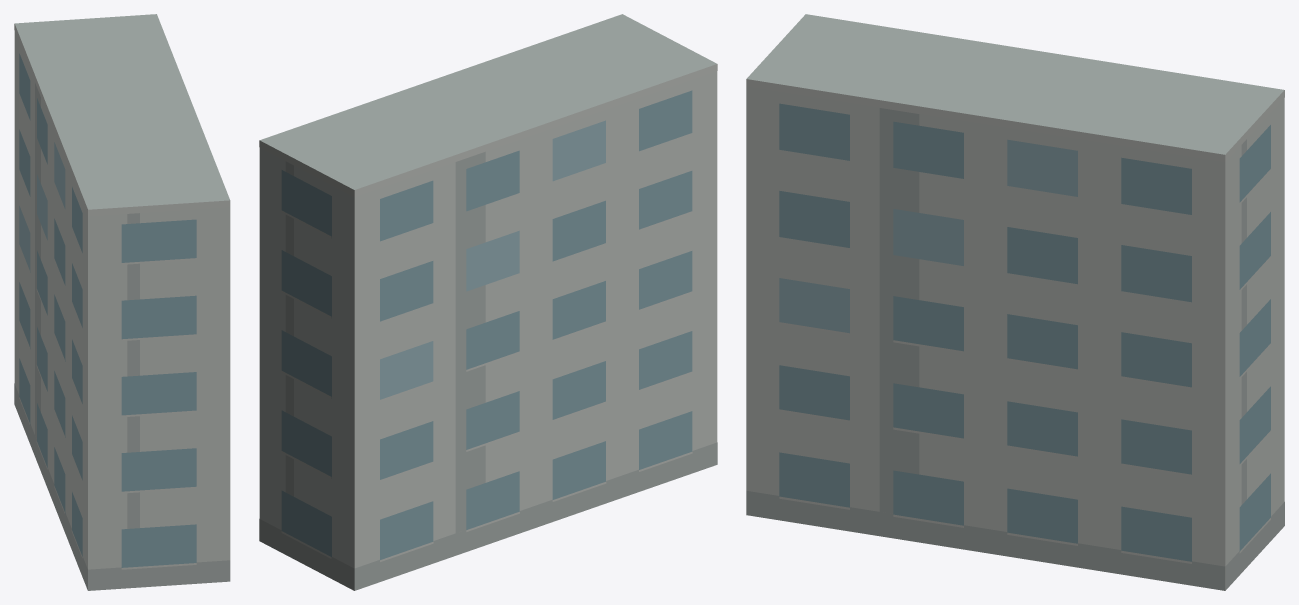
Rendered from survey-upis-32979131.glb.
3 renders of one model, left to right at view 1: azimuth 30°, elevation 25°; view 2: azimuth 150°, elevation 25°; view 3: azimuth 270°, elevation 25°, orthographic. The views are drawn at different scales.
Visible parts, largest first — view 1: survey-upis-32979131.tmp; view 2: survey-upis-32979131.tmp; view 3: survey-upis-32979131.tmp.
Part boxes in pixels (x1,y1,x2,y2): survey-upis-32979131.tmp: (14, 14, 230, 590); survey-upis-32979131.tmp: (259, 14, 717, 590); survey-upis-32979131.tmp: (746, 14, 1284, 590).
Size of the model in its own units: 9.5 by 13.7 by 15.34.
